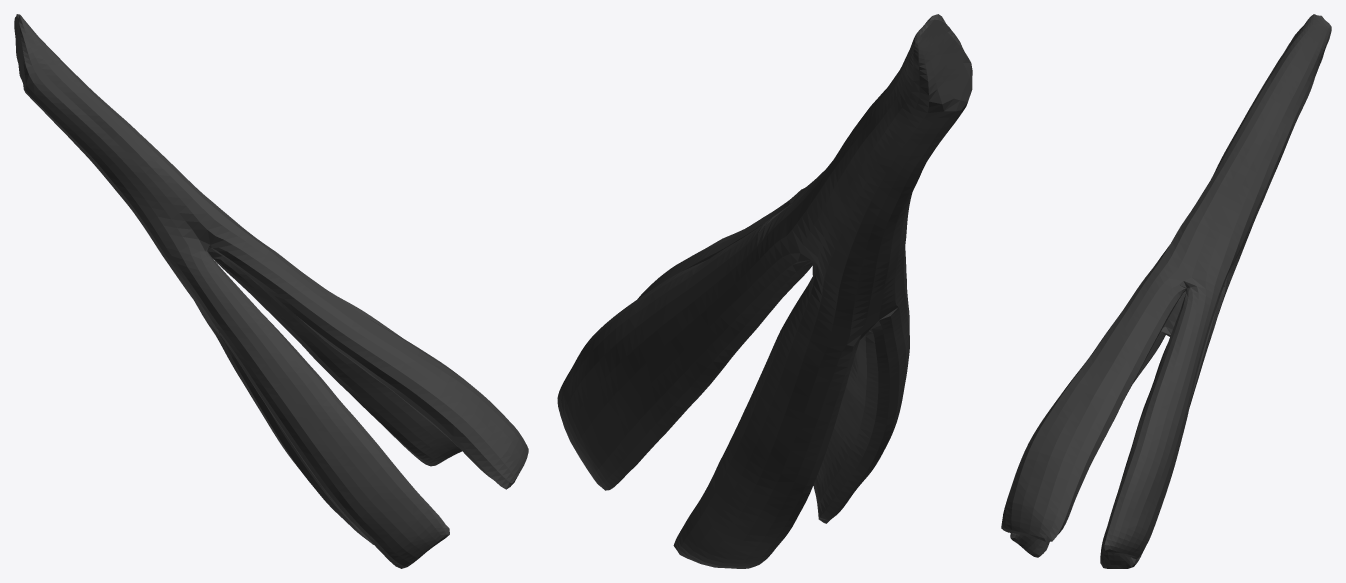
File: Retractor_bulbi.glb
3 renders of one model, left to right at view 1: azimuth 30°, elevation 25°; view 2: azimuth 150°, elevation 25°; view 3: azimuth 270°, elevation 25°, orthographic. The views are drawn at different scales.
Visible parts, largest first — view 1: Retractor_bulbi; view 2: Retractor_bulbi; view 3: Retractor_bulbi.
Boxes of the visible parts, box(x1,y1,x2,y2) form: Retractor_bulbi: box(14, 14, 528, 568); Retractor_bulbi: box(557, 14, 972, 568); Retractor_bulbi: box(1001, 14, 1331, 568).
Bounding box in the file's own units: 0.0202 × 0.0263 × 0.0175.
1 material, 1 textured.
